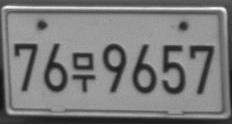5: (161, 44, 186, 94)
6: (131, 43, 157, 93), (43, 43, 68, 93)
7: (189, 45, 215, 94), (13, 43, 37, 91)
9: (102, 43, 127, 92)
무: (71, 52, 96, 93)
